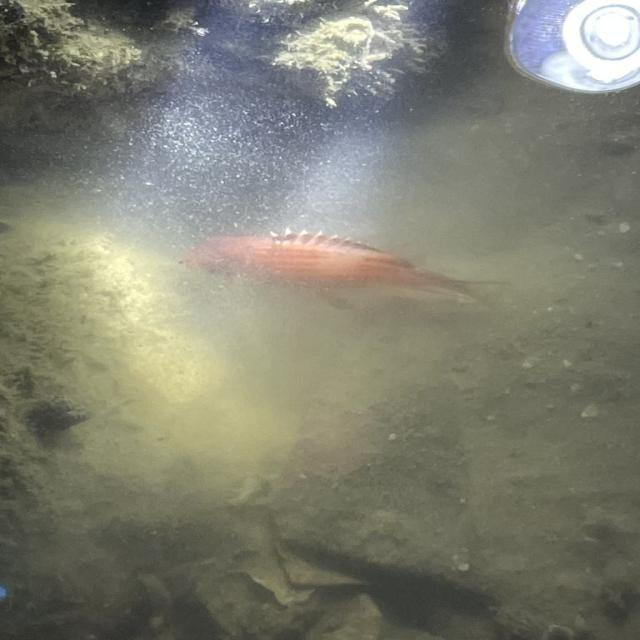Asker Baligi: (180, 225, 512, 314)
